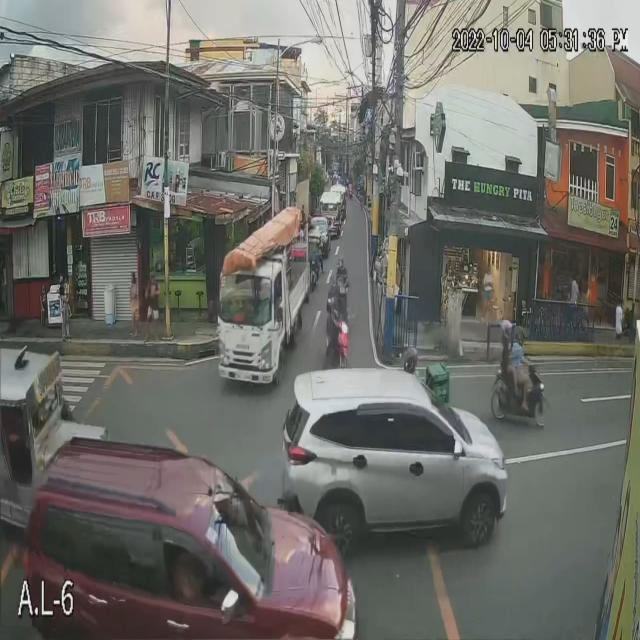full: (401, 343, 418, 373), (502, 318, 513, 347)
